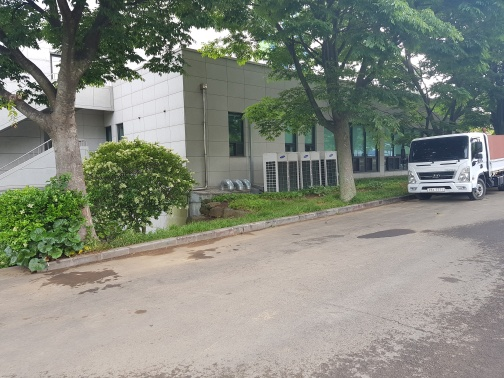Gym: (80, 33, 409, 200)
